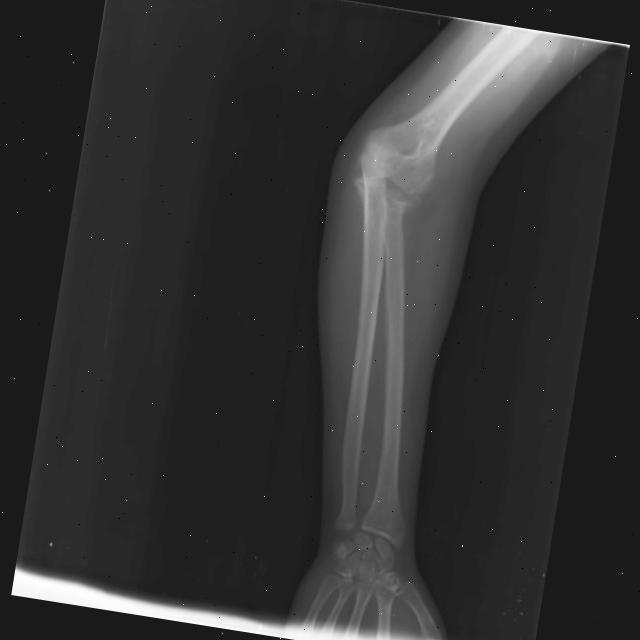Fracture: (346, 135, 421, 225)
